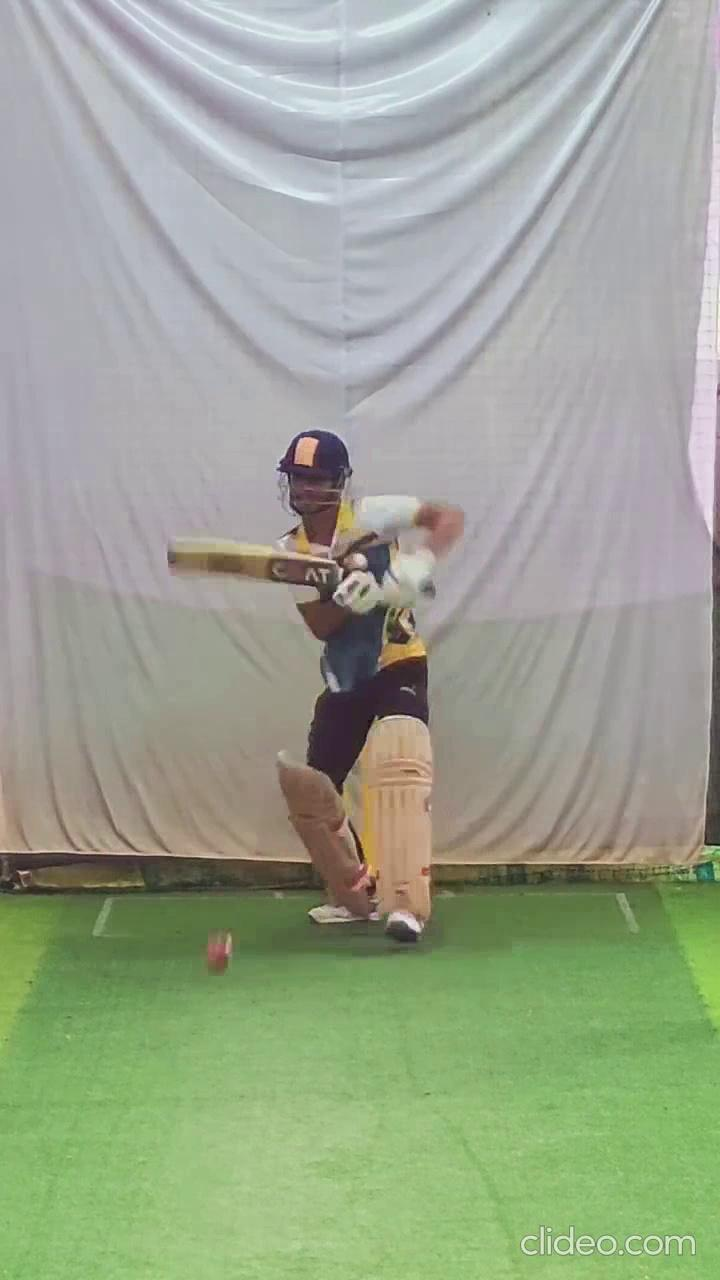bat: (162, 539, 338, 593)
